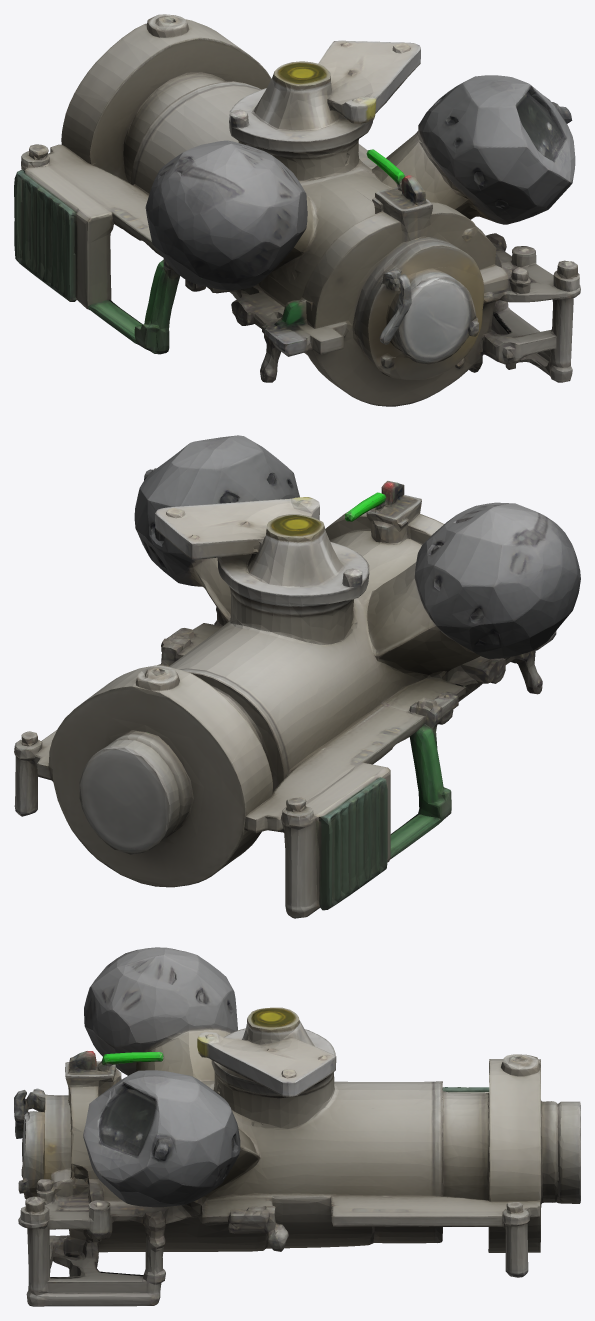
3 views of the same model, one above another, from view 1: azimuth 30°, elevation 25°; view 2: azimuth 150°, elevation 25°; view 3: azimuth 270°, elevation 25° (orthographic). The views are drawn at different scales.
Parts seen in each view (by area): view 1: world; view 2: world; view 3: world.
Part boxes in pixels (<box>): world: <box>14,14,580,406</box>; world: <box>14,435,580,918</box>; world: <box>14,947,580,1306</box>.
Size of the model in its own units: 0.7716 by 0.4626 by 0.9989.
Materials: 1 (1 with a texture image).
